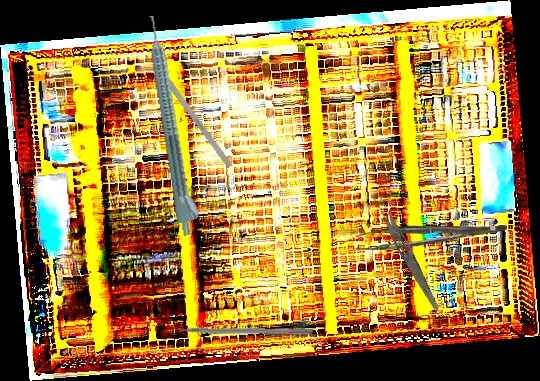Dressing Forceps: (368, 190, 446, 314)
Handpiece: (143, 13, 205, 237)
Hook Surgical: (151, 59, 233, 169)
Pusher: (159, 324, 314, 336)
Tissue Forceps: (354, 225, 507, 250)
